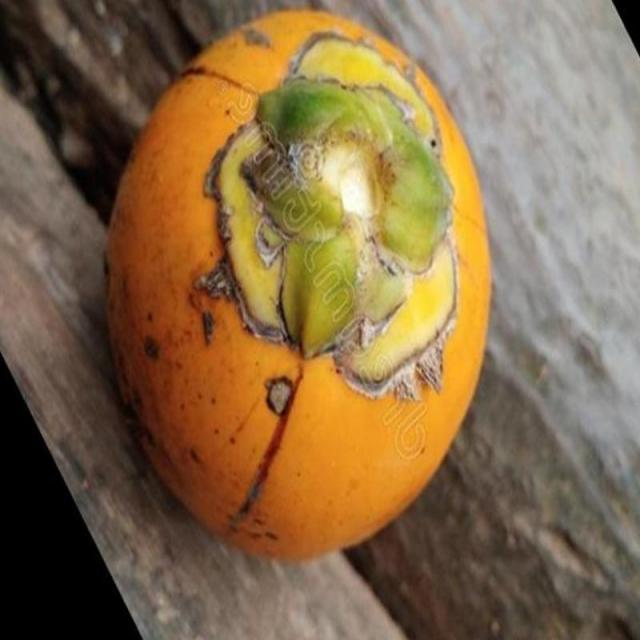good: (105, 10, 495, 564)
